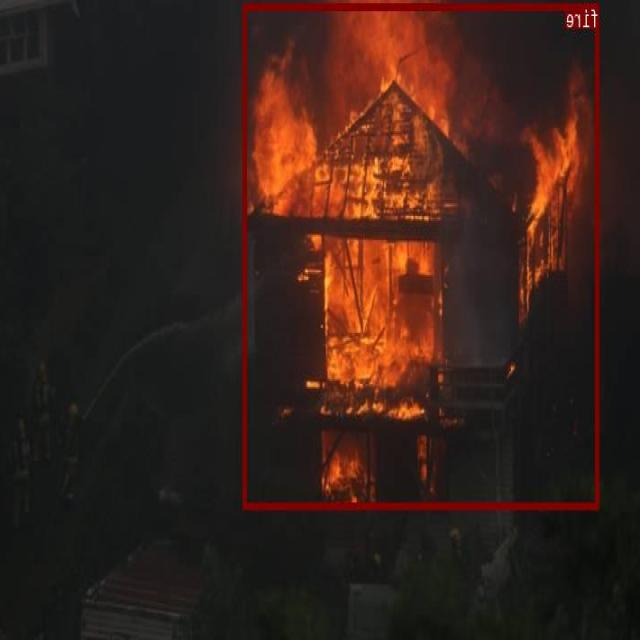fire: (243, 2, 600, 508)
